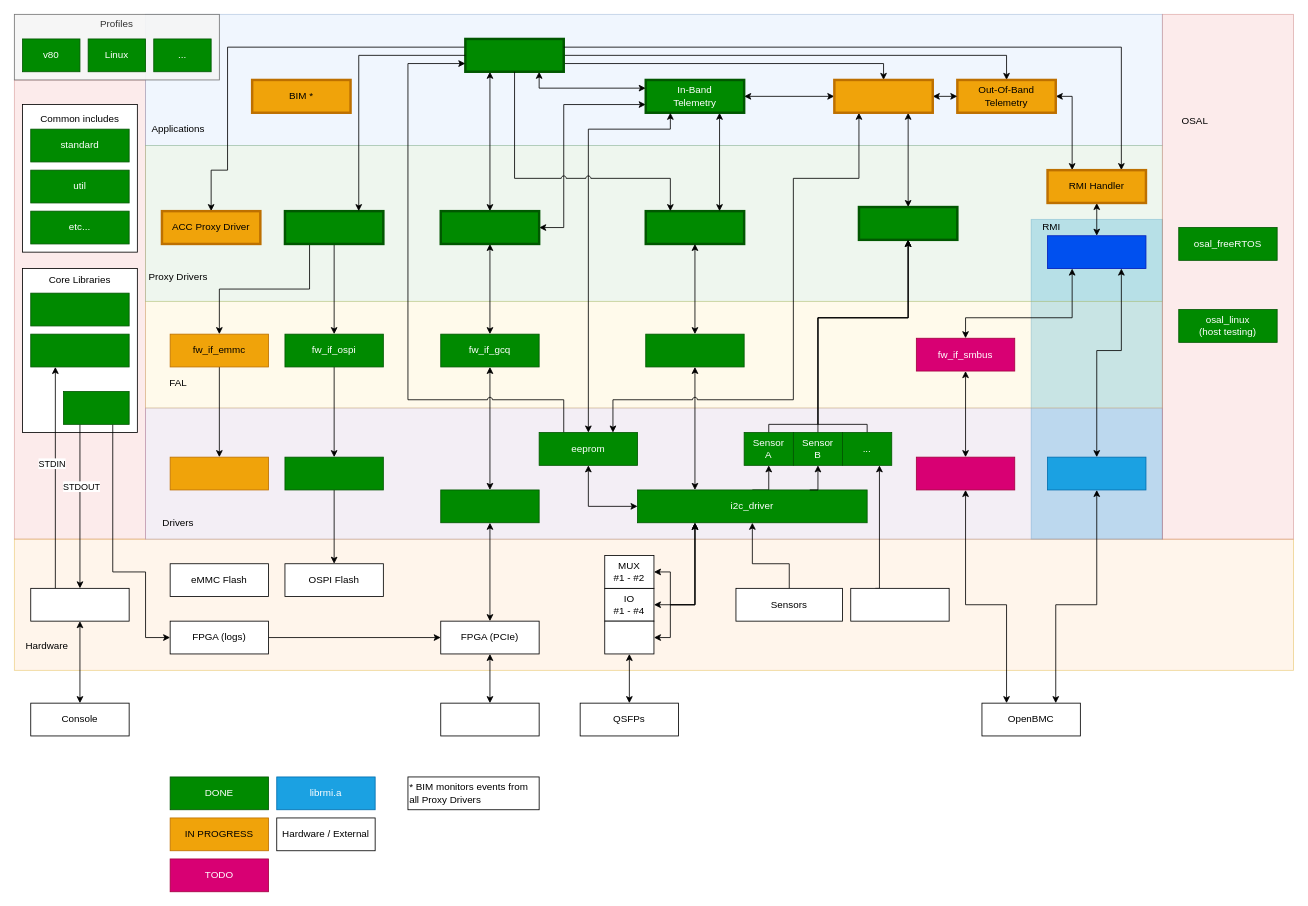
The diagram is 1308 pixels wide and 906 high, and some of its shapes have lost their labels. Each missing label, with the centre of its shape:
"ALVEO_i2c" goes at point 1096,473.
"AMC" goes at point 514,55.
"AMI" goes at point 489,719.
"AMI Proxy Driver" goes at point 489,227.
"APC Proxy Driver" goes at point 333,227.
"AQC Proxy Driver" goes at point 694,227.
"ASC Proxy Driver" goes at point 907,223.
"ASDM" goes at point 883,96.
"DAL" goes at point 79,350.
"Debug UART" goes at point 79,604.
"emmc_driver" goes at point 219,473.
"EVL" goes at point 79,309.
"FPGA (SysMon)" goes at point 899,604.
"fw_if_qsfp" goes at point 694,350.
"gcq_driver" goes at point 489,506.
"ospi_driver" goes at point 333,473.
"PLL" goes at point 96,407.
"QSFP #1 - #4" goes at point 629,637.
"RMI Library" goes at point 1096,252.
"smbus_driver" goes at point 965,473.
